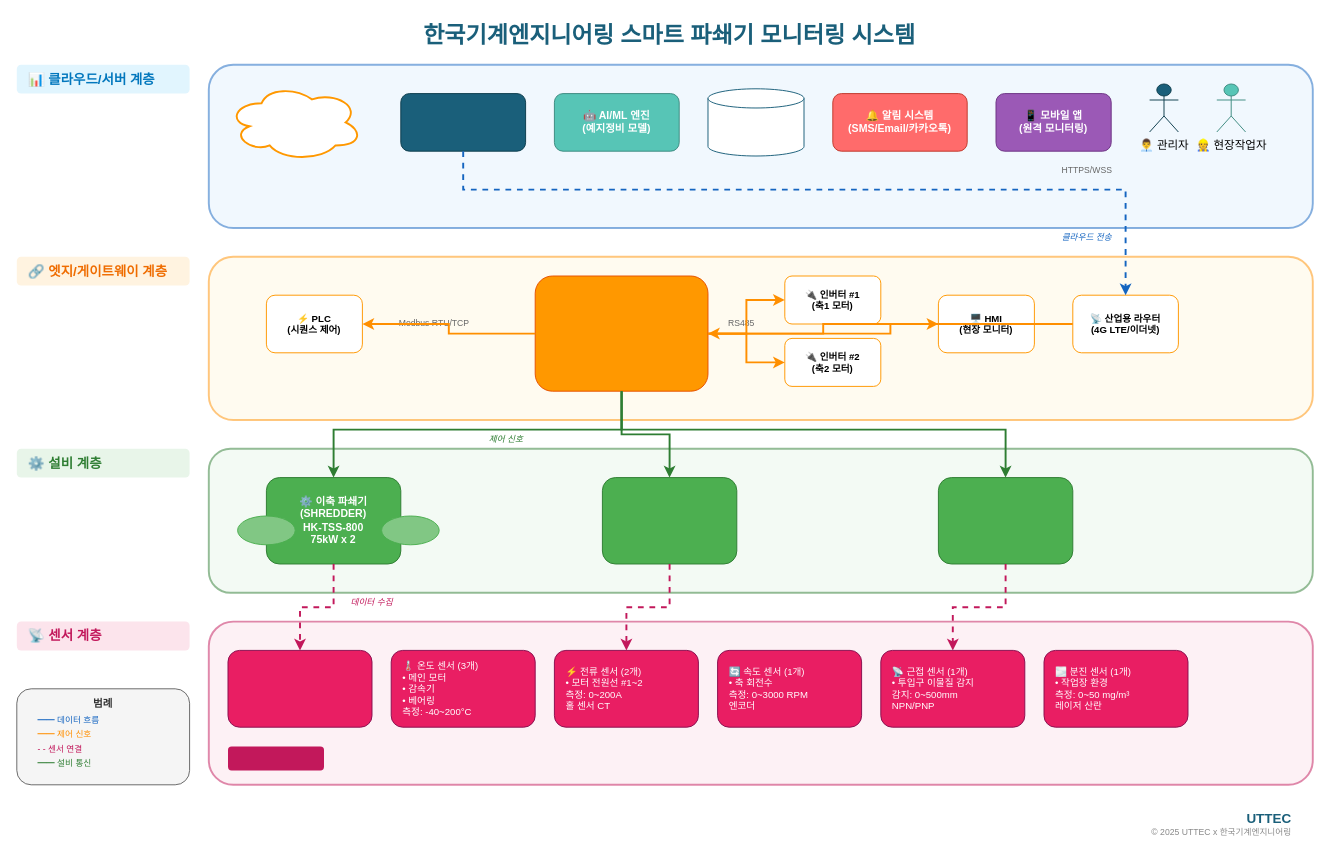
This 1331x858 diagram has some shape labels left out. The centre of each missing label's shape, as x and y in pixels:
☁️ AWS Cloud: the point at 295,122
총 12개 센서: the point at 276,758
🌀 핀밀 (PIN MILL) HK-PM-300 37kW: the point at 1005,520
📊 웹 대시보드 (실시간 모니터링): the point at 463,122
📳 진동 센서 (4개) • 베어링 하우징 #1~2 • 모터/감속기 #3~4 측정: 0~50 mm/s: the point at 299,688
🔄 모터 #1: the point at 266,530
🔄 모터 #2: the point at 410,530
🔩 분쇄기 (CRUSHER) HK-HC-500 55kW: the point at 669,520
🖥️ Edge AI Gateway (UTTEC 엣지 컨트롤러) • ARM Cortex-M4 MCU • AI 추론 엔진 • 실시간 데이터 처리: the point at 621,333
🗄️ 시계열 DB (InfluxDB): the point at 755,122
